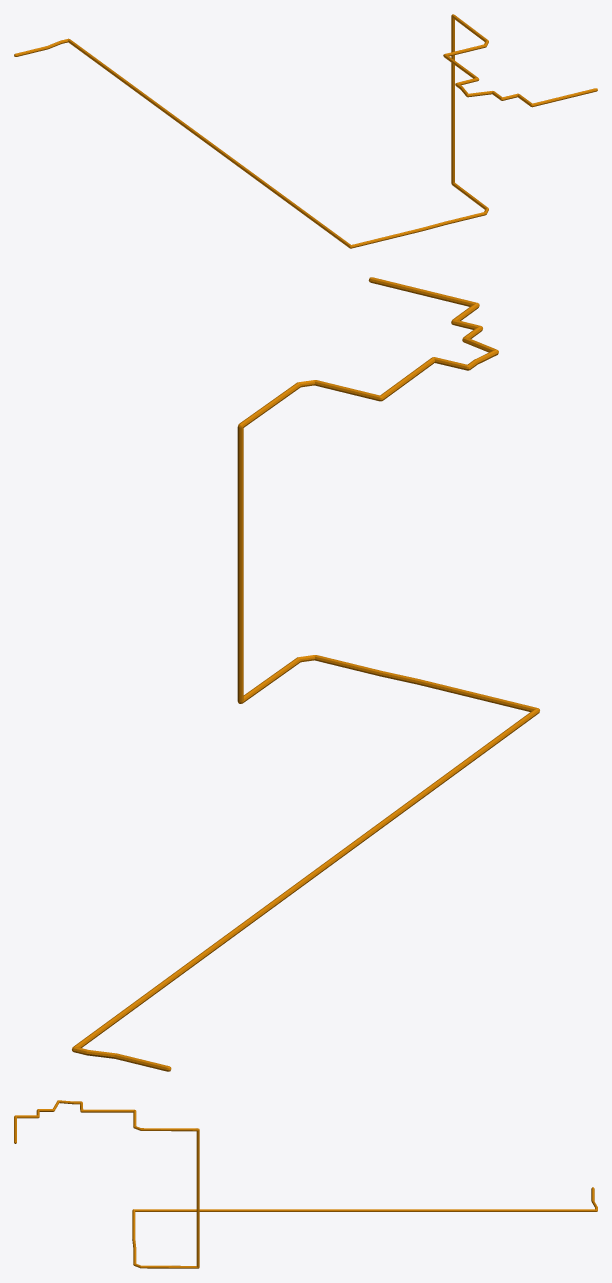
3 renders of one model, top to bottom at view 1: azimuth 30°, elevation 25°; view 2: azimuth 150°, elevation 25°; view 3: azimuth 270°, elevation 25°, orthographic. The views are drawn at different scales.
Size of the model in its own units: 1445 by 1020 by 3850.
